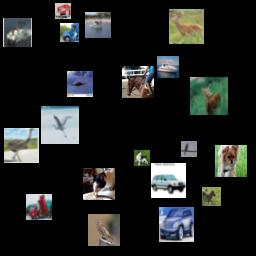airplane: (67, 71, 93, 97)
automobile: (159, 207, 194, 242), (151, 163, 186, 198)
bird: (41, 106, 79, 144), (4, 128, 39, 163), (88, 214, 120, 246), (181, 141, 197, 157)
cat: (83, 168, 115, 200), (134, 150, 150, 166)
deer: (190, 77, 228, 115), (169, 9, 204, 44)
dog: (215, 145, 247, 177), (202, 187, 221, 206)
ship: (3, 18, 32, 47), (85, 12, 111, 38), (157, 56, 179, 78)
truck: (26, 194, 52, 220), (60, 23, 79, 42), (55, 3, 71, 19)
